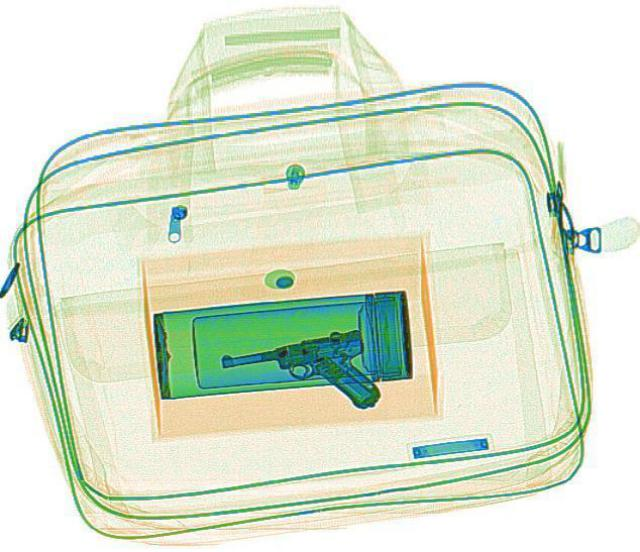Gun: (215, 324, 382, 427)
